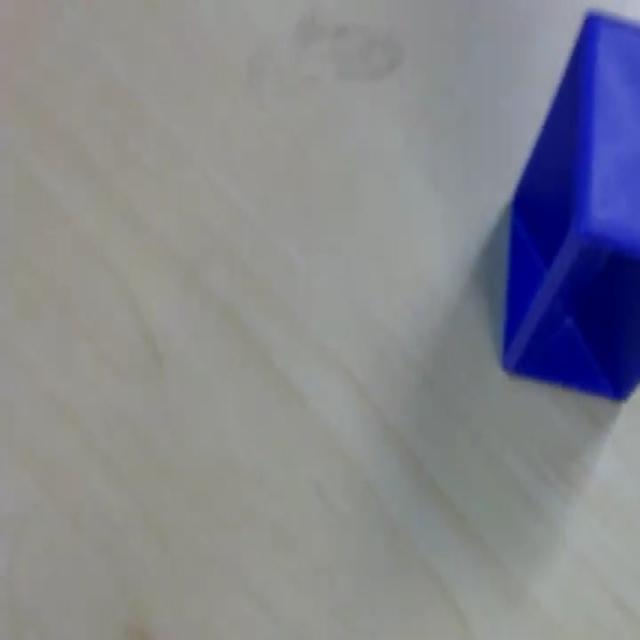blue_block: (501, 7, 638, 401)
